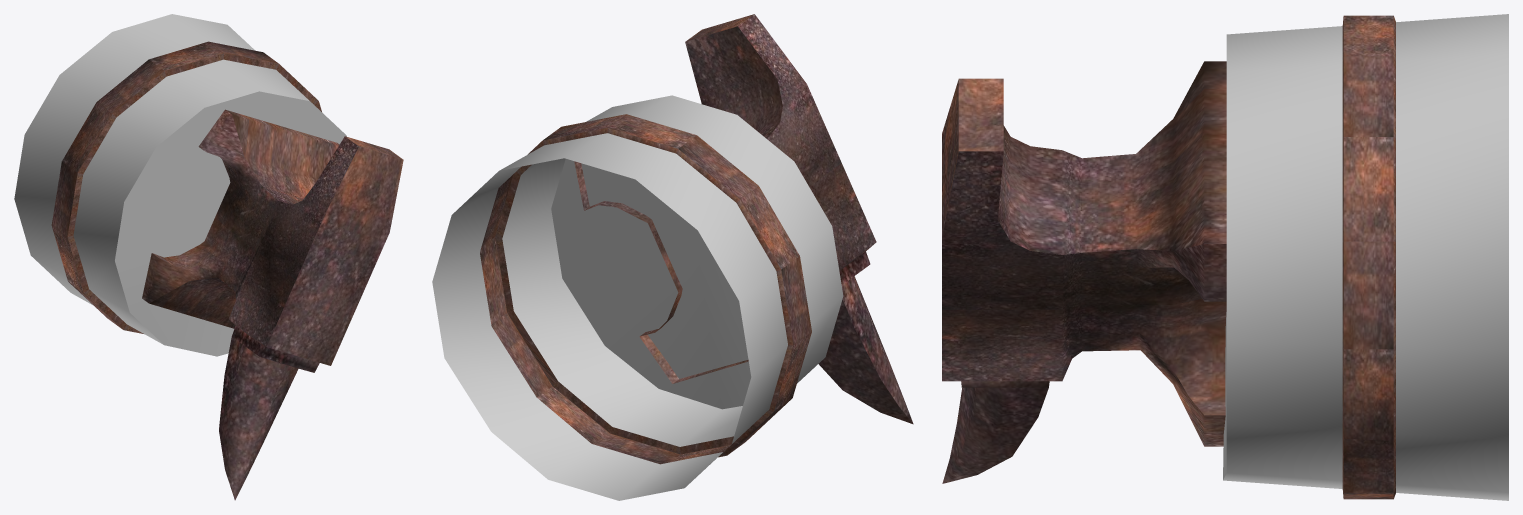
File: anvil.fbx
3 renders of one model, left to right at view 1: azimuth 30°, elevation 25°; view 2: azimuth 150°, elevation 25°; view 3: azimuth 270°, elevation 25°, orthographic. The views are drawn at different scales.
Visible parts, largest first — view 1: object; view 2: object; view 3: object.
Boxes of the visible parts, <box> form: object: <box>14,14,403,500</box>; object: <box>432,14,913,500</box>; object: <box>942,14,1508,500</box>.
Bounding box in the file's own units: 69.52 × 80.76 × 80.01.
